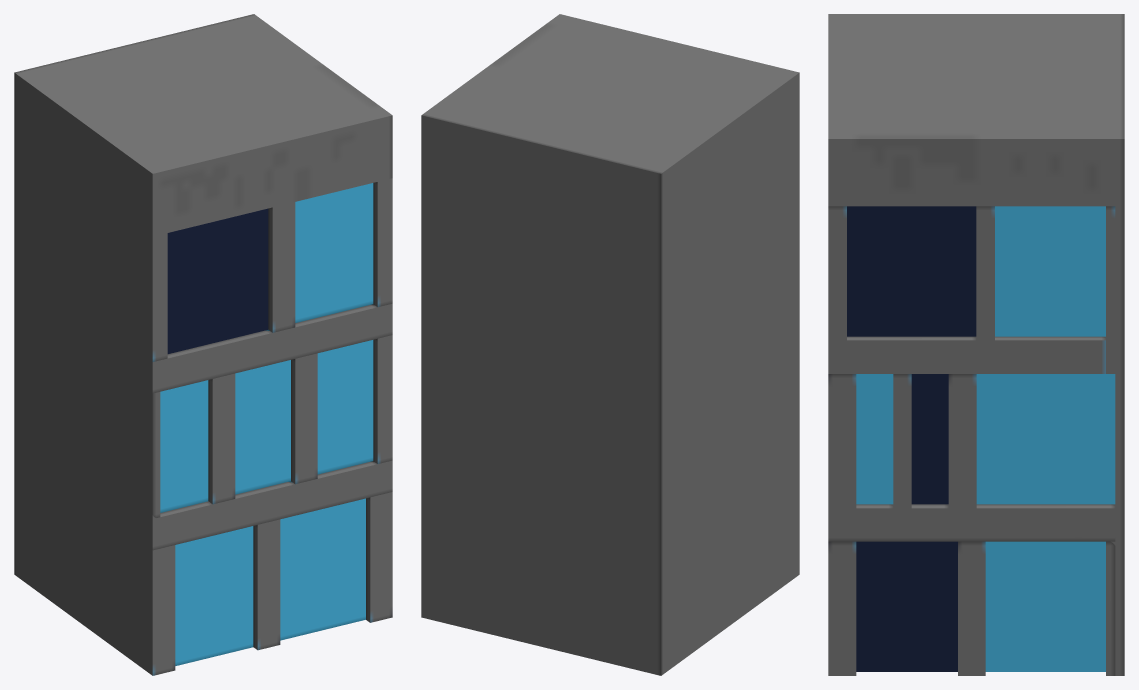
Rendered from B_M_BOKKK.dae.
3 renders of one model, left to right at view 1: azimuth 30°, elevation 25°; view 2: azimuth 150°, elevation 25°; view 3: azimuth 270°, elevation 25°, orthographic. The views are drawn at different scales.
Parts seen in each view (by area): view 1: Content; view 2: Content; view 3: Content.
Boxes of the visible parts, x1,y1,x2,y2 form: Content: (14,14,392,675); Content: (421,14,799,675); Content: (828,14,1124,675).
Size of the model in its own units: 32 by 64 by 32.
Materials: 1 (1 with a texture image).
